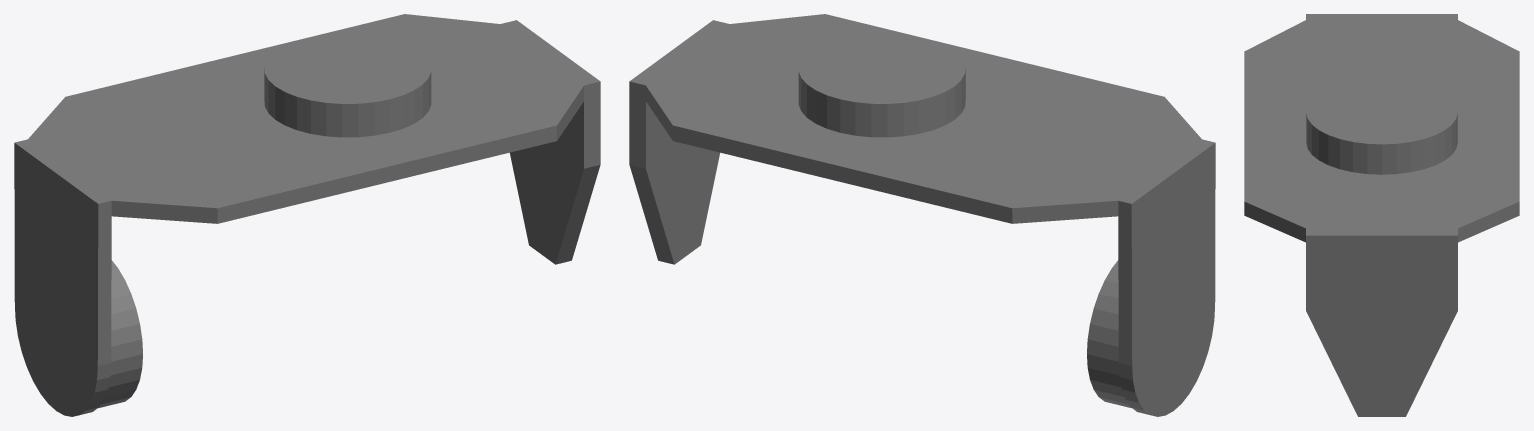
The model's file is leg_yaw.dae.
3 views of the same model, side by side, from view 1: azimuth 30°, elevation 25°; view 2: azimuth 150°, elevation 25°; view 3: azimuth 270°, elevation 25° (orthographic). The views are drawn at different scales.
Visible parts, largest first — view 1: leg_yaw; view 2: leg_yaw; view 3: leg_yaw.
Part boxes in pixels (x1,y1,x2,y2): leg_yaw: (14, 14, 600, 416); leg_yaw: (629, 14, 1215, 416); leg_yaw: (1244, 14, 1519, 416).
Bounding box in the file's own units: 0.055 × 0.0289 × 0.0284.
Materials: 1 (1 with a texture image).
